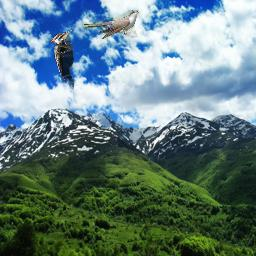Cuckoo: (82, 10, 139, 39)
Woodpecker: (50, 30, 74, 91)
